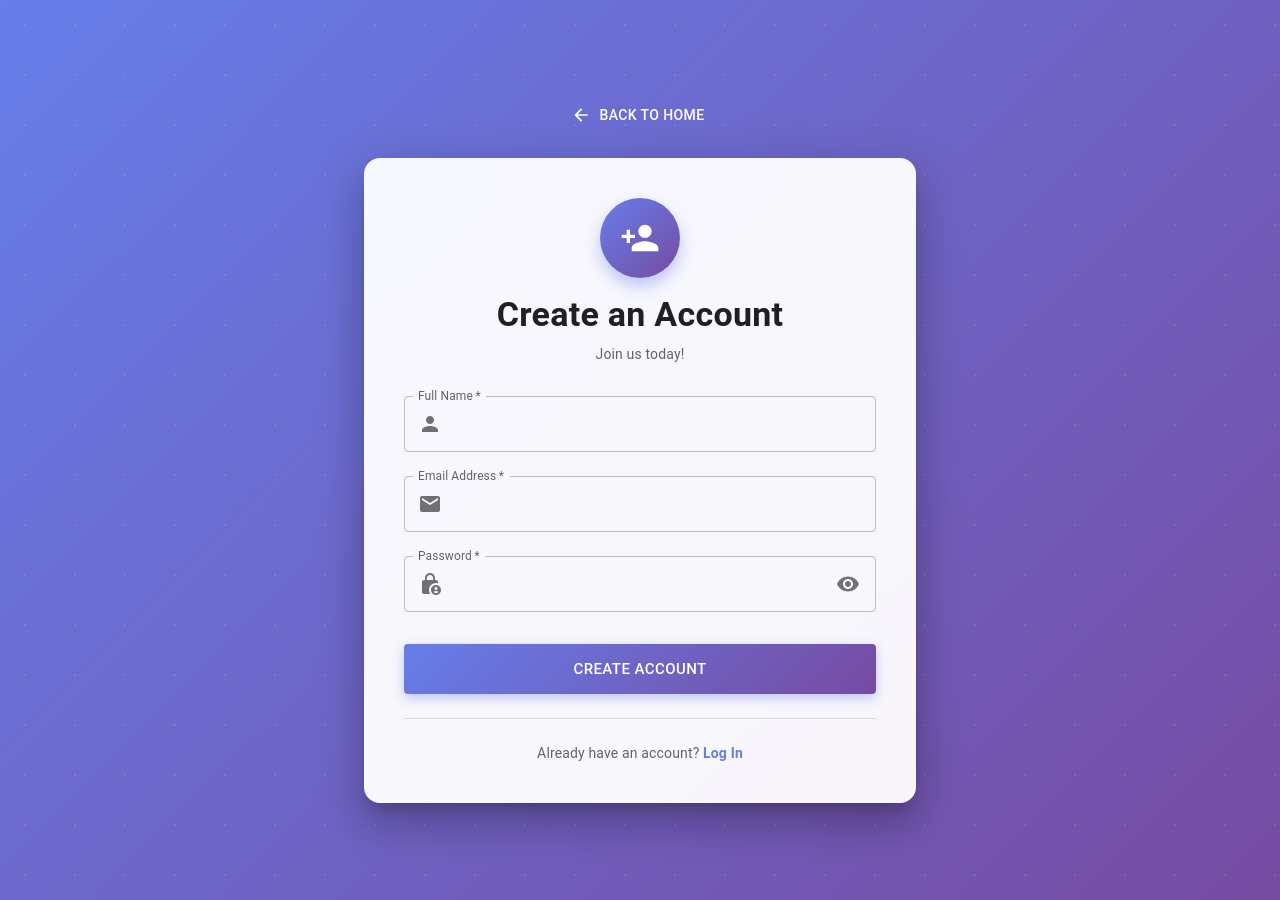
Scenario: RegistrationPage › displays error message on registration failure
Type "John Doe" into the field labelled "Full Name *".
click(663, 424); type("John Doe")  # box x1=450 y1=396 x2=876 y2=452
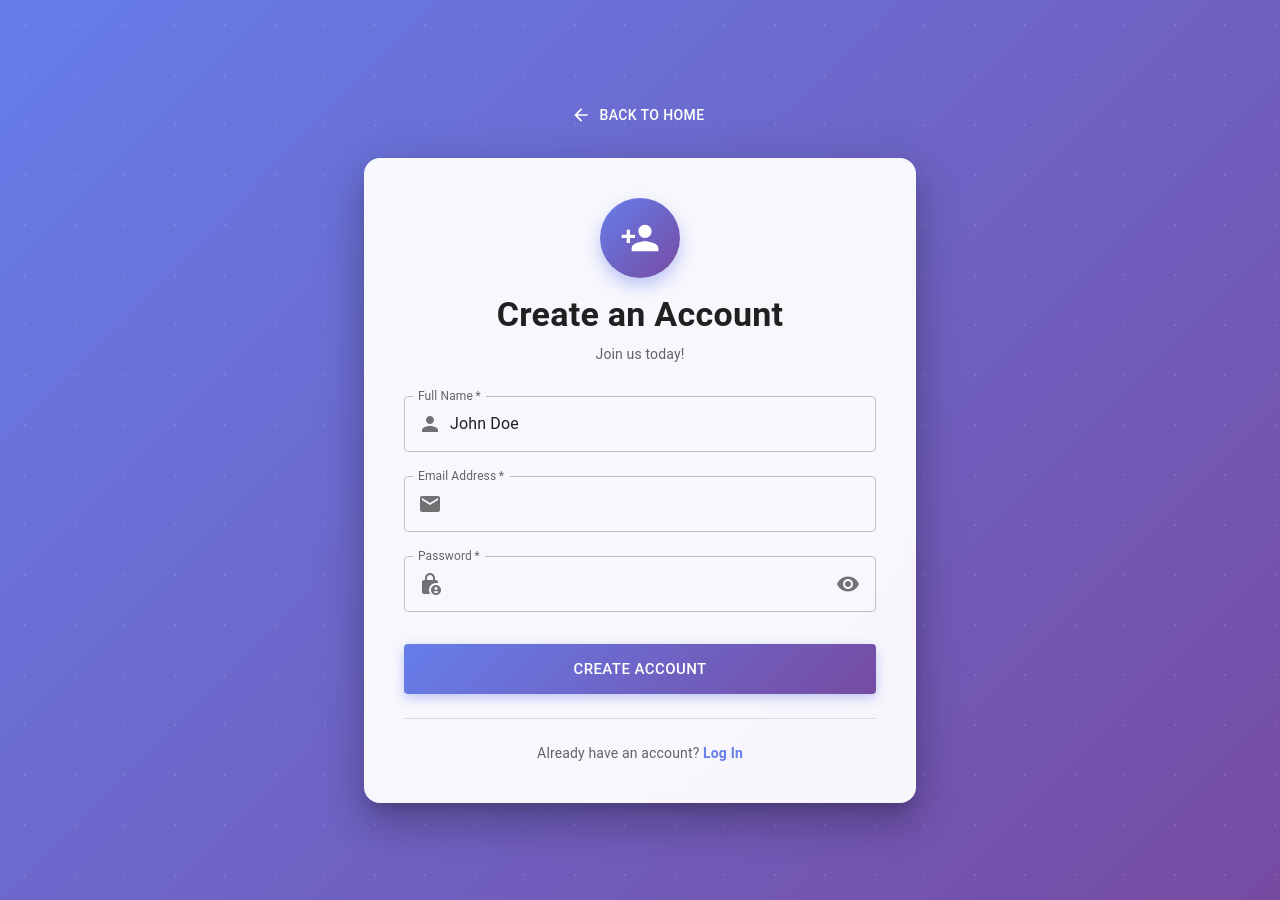
Type "existing@example.com" into the field labelled "Email Address *".
click(663, 504); type("existing@example.com")  # box x1=450 y1=476 x2=876 y2=532
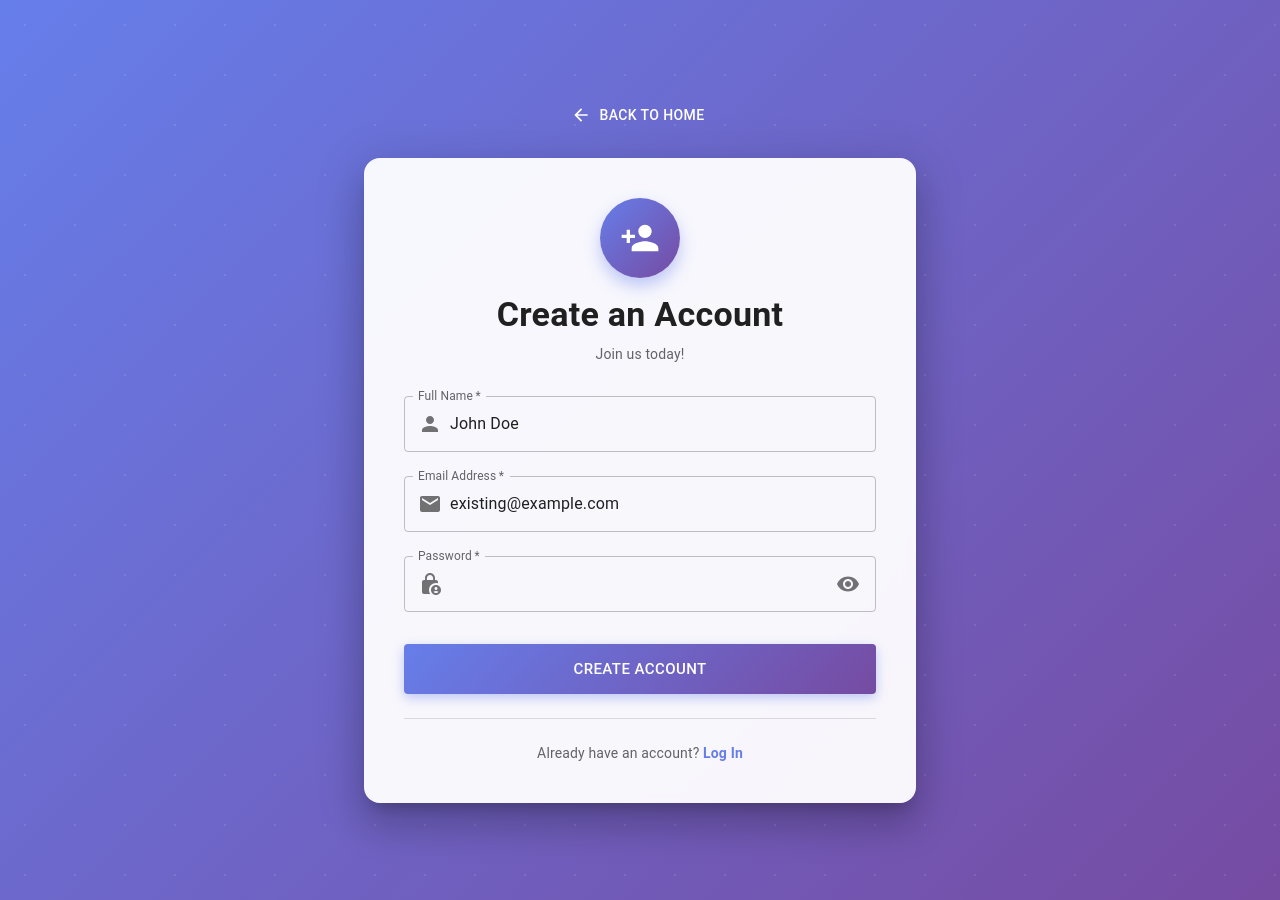
Type "password123" into the password field labelled "Password *".
click(638, 584); type("password123")  # box x1=450 y1=556 x2=826 y2=612
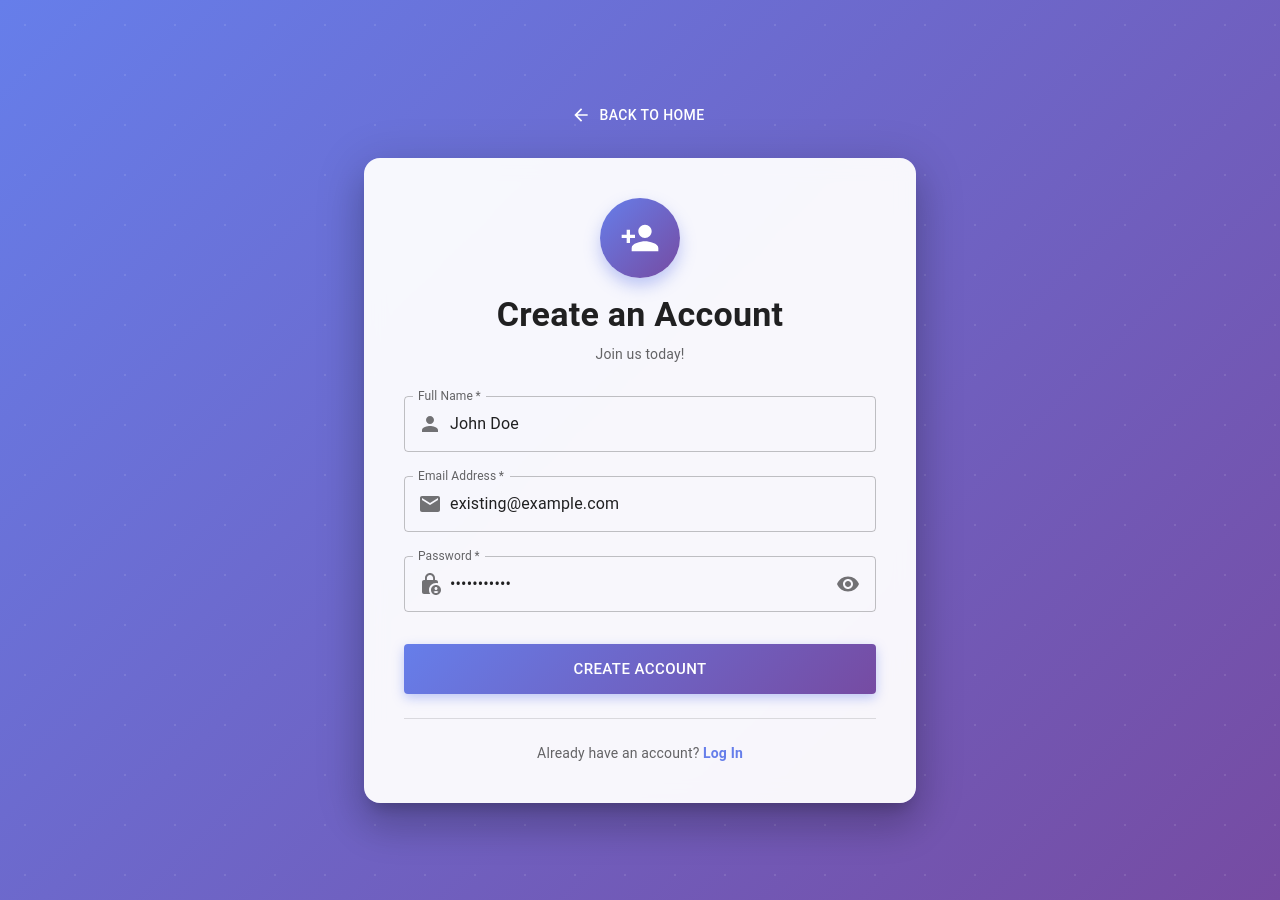
Click the button "Create Account".
click(640, 669)  # box x1=404 y1=644 x2=876 y2=694
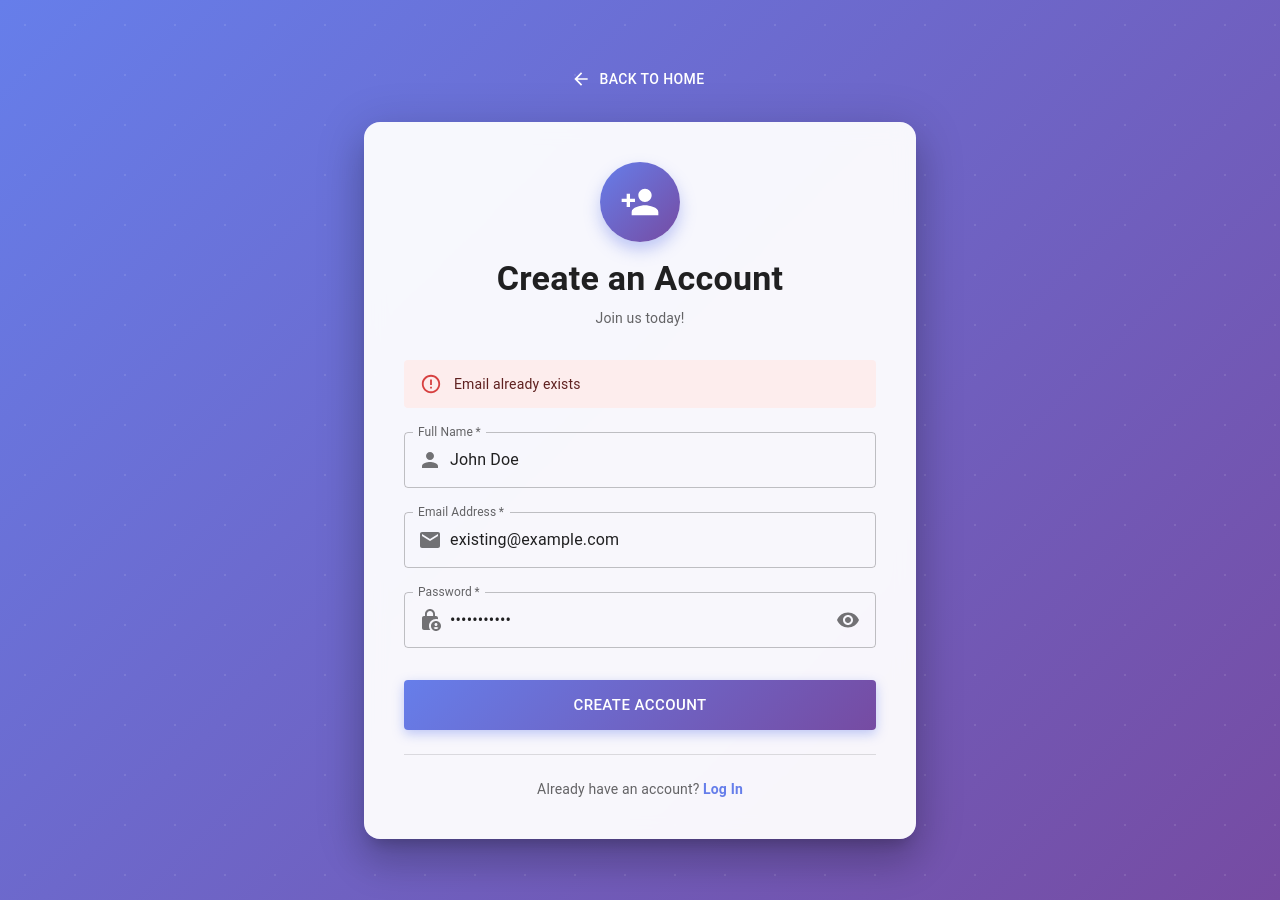
Check: the text "Email already exists" is shown, box x1=454 y1=376 x2=581 y2=392
